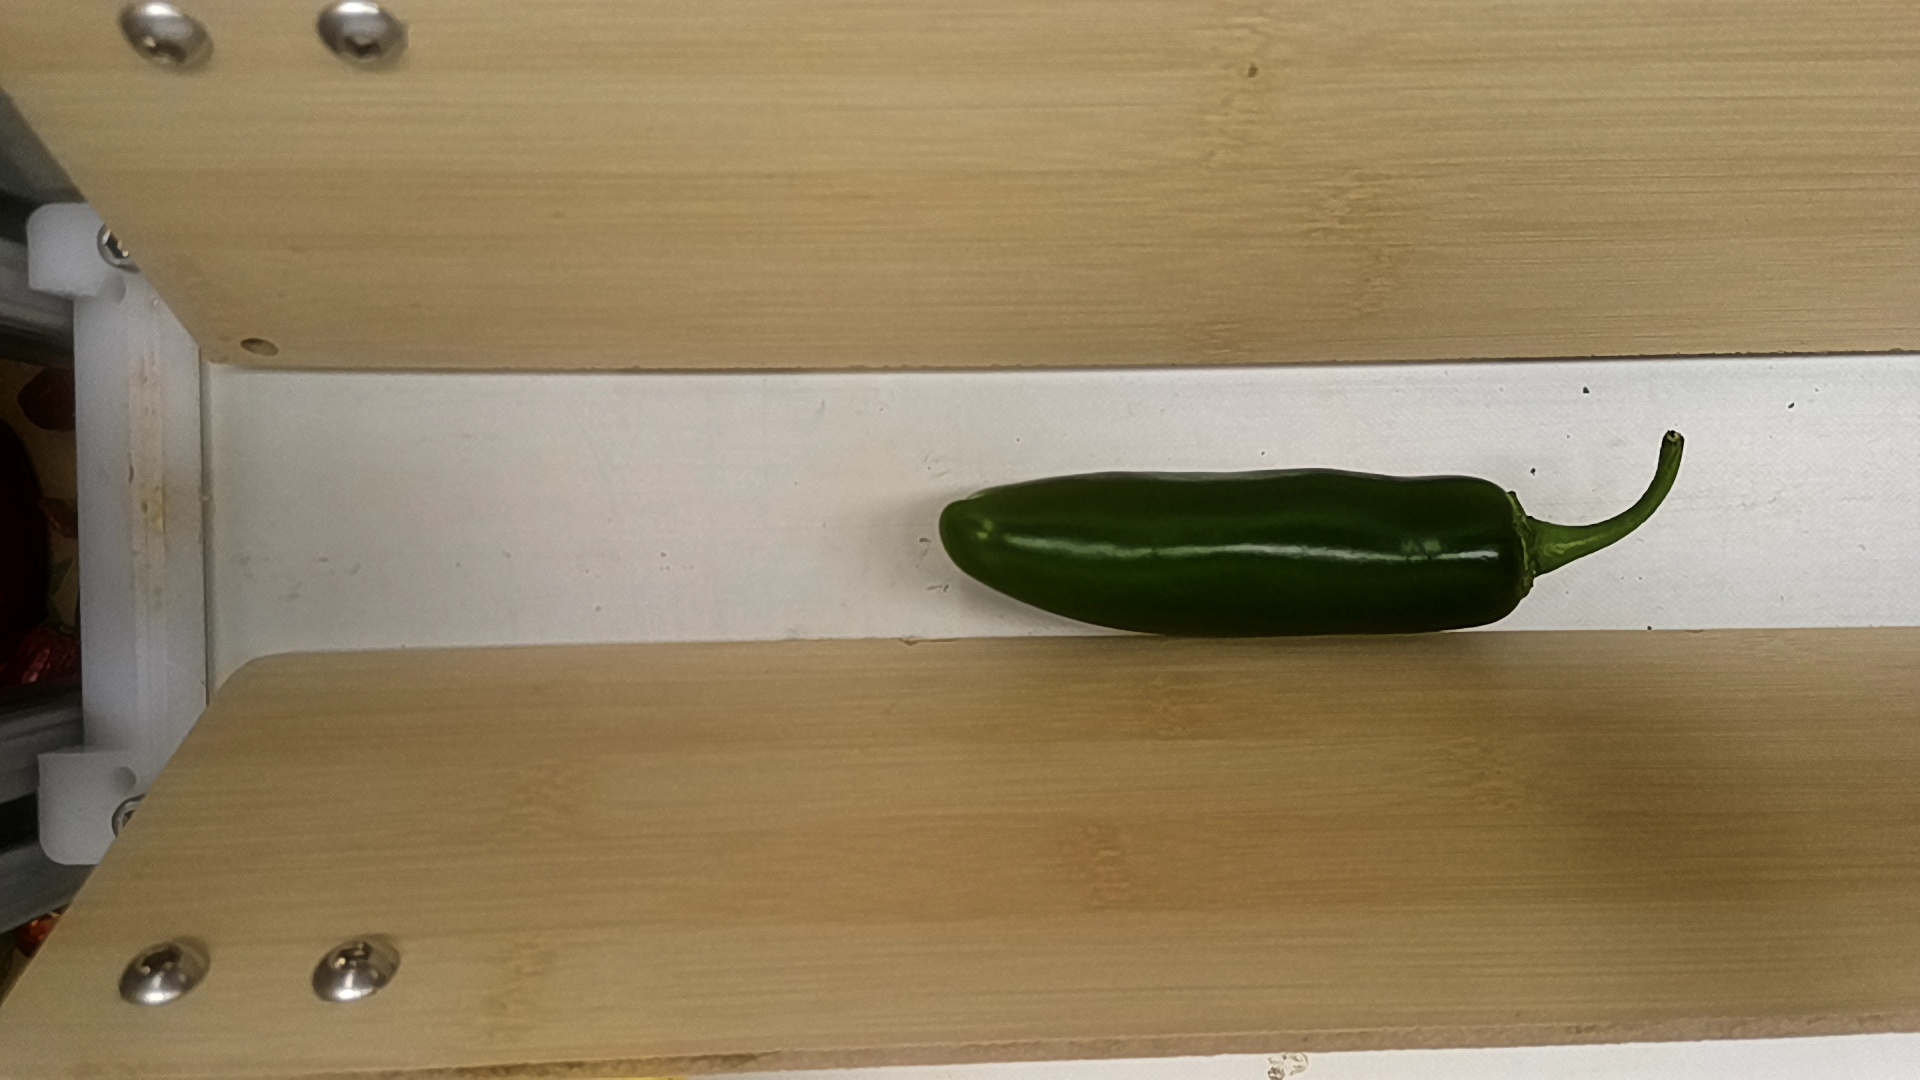Cut Point: (1478, 469, 1548, 622)
